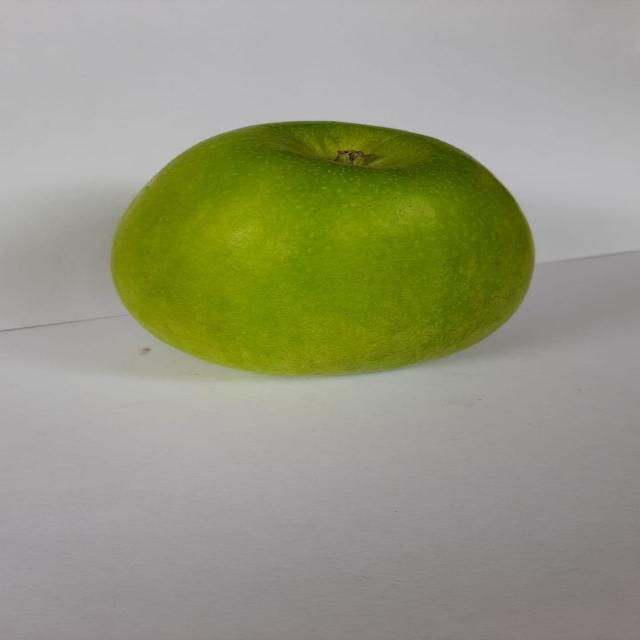50-_ripeness: (95, 109, 547, 385)
